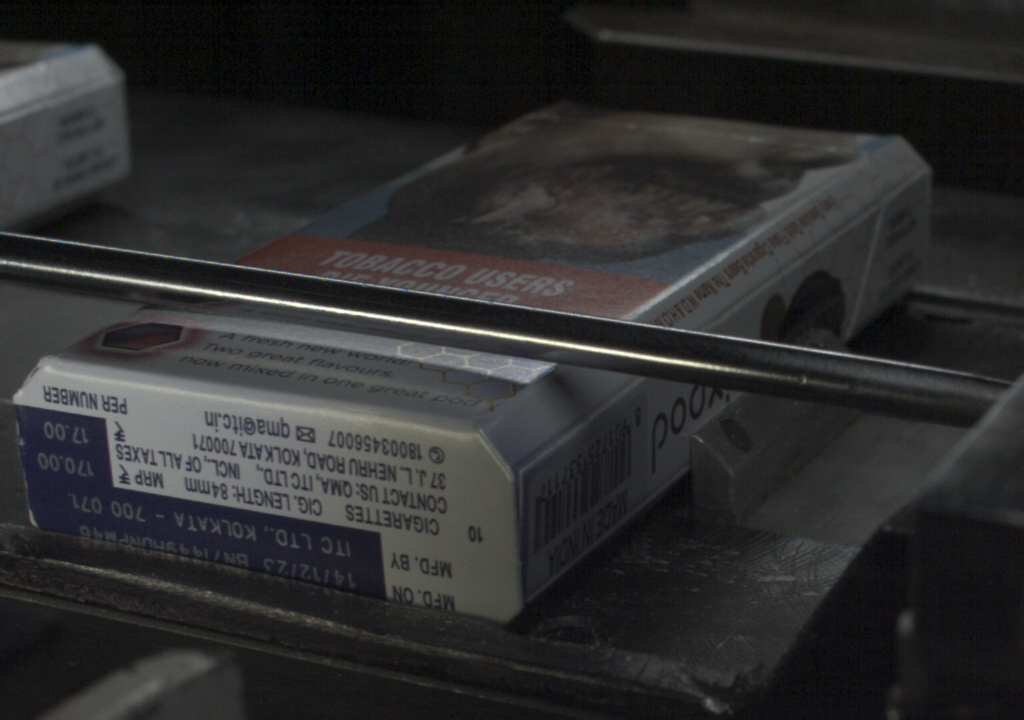g_bottom: (13, 359, 517, 632)
g_label: (24, 483, 381, 602)
g_lmiter: (797, 209, 882, 269), (712, 270, 790, 330), (513, 425, 580, 485), (577, 377, 643, 424)
g_miter: (878, 179, 932, 209)
price: (19, 416, 111, 485)
